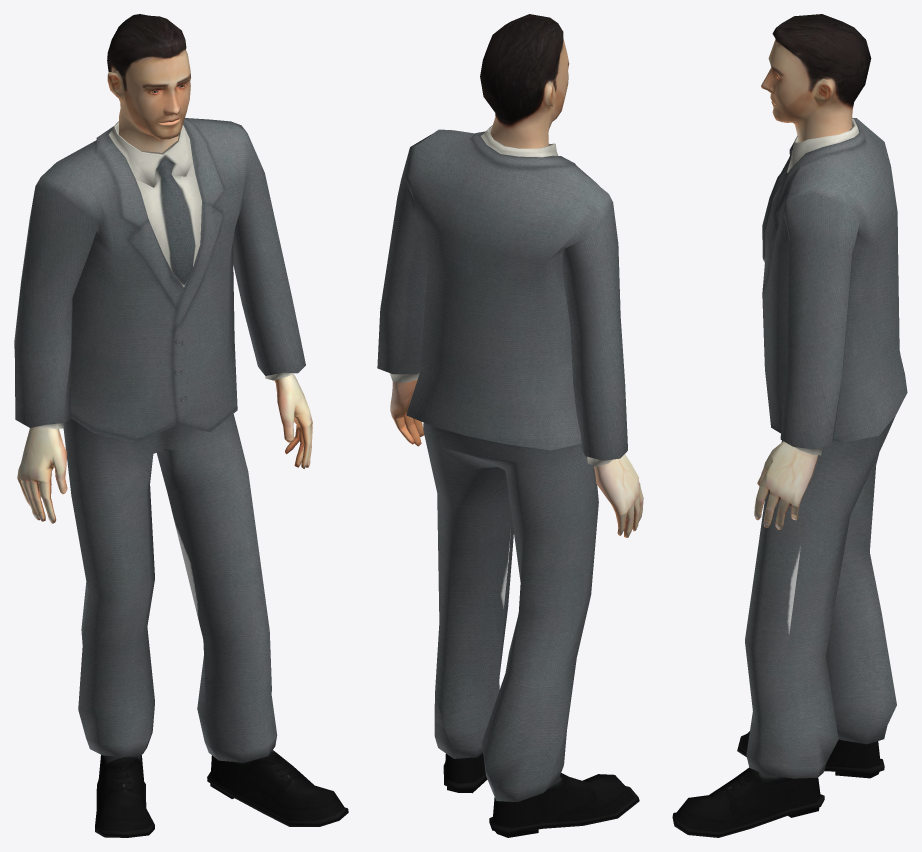
The model's file is staanding_man.fbx.
3 renders of one model, left to right at view 1: azimuth 30°, elevation 25°; view 2: azimuth 150°, elevation 25°; view 3: azimuth 270°, elevation 25°, orthographic. The views are drawn at different scales.
Visible parts, largest first — view 1: Business Male Suit, Business Man Body; view 2: Business Male Suit, Business Man Body; view 3: Business Male Suit, Business Man Body.
Boxes of the visible parts, <box> form: Business Male Suit: <box>14,118,348,837</box>; Business Man Body: <box>17,14,312,523</box>; Business Male Suit: <box>377,125,639,837</box>; Business Man Body: <box>390,14,643,537</box>; Business Male Suit: <box>672,118,907,837</box>; Business Man Body: <box>754,14,871,529</box>.
Bounding box in the file's own units: 66.84 × 189 × 52.86.
